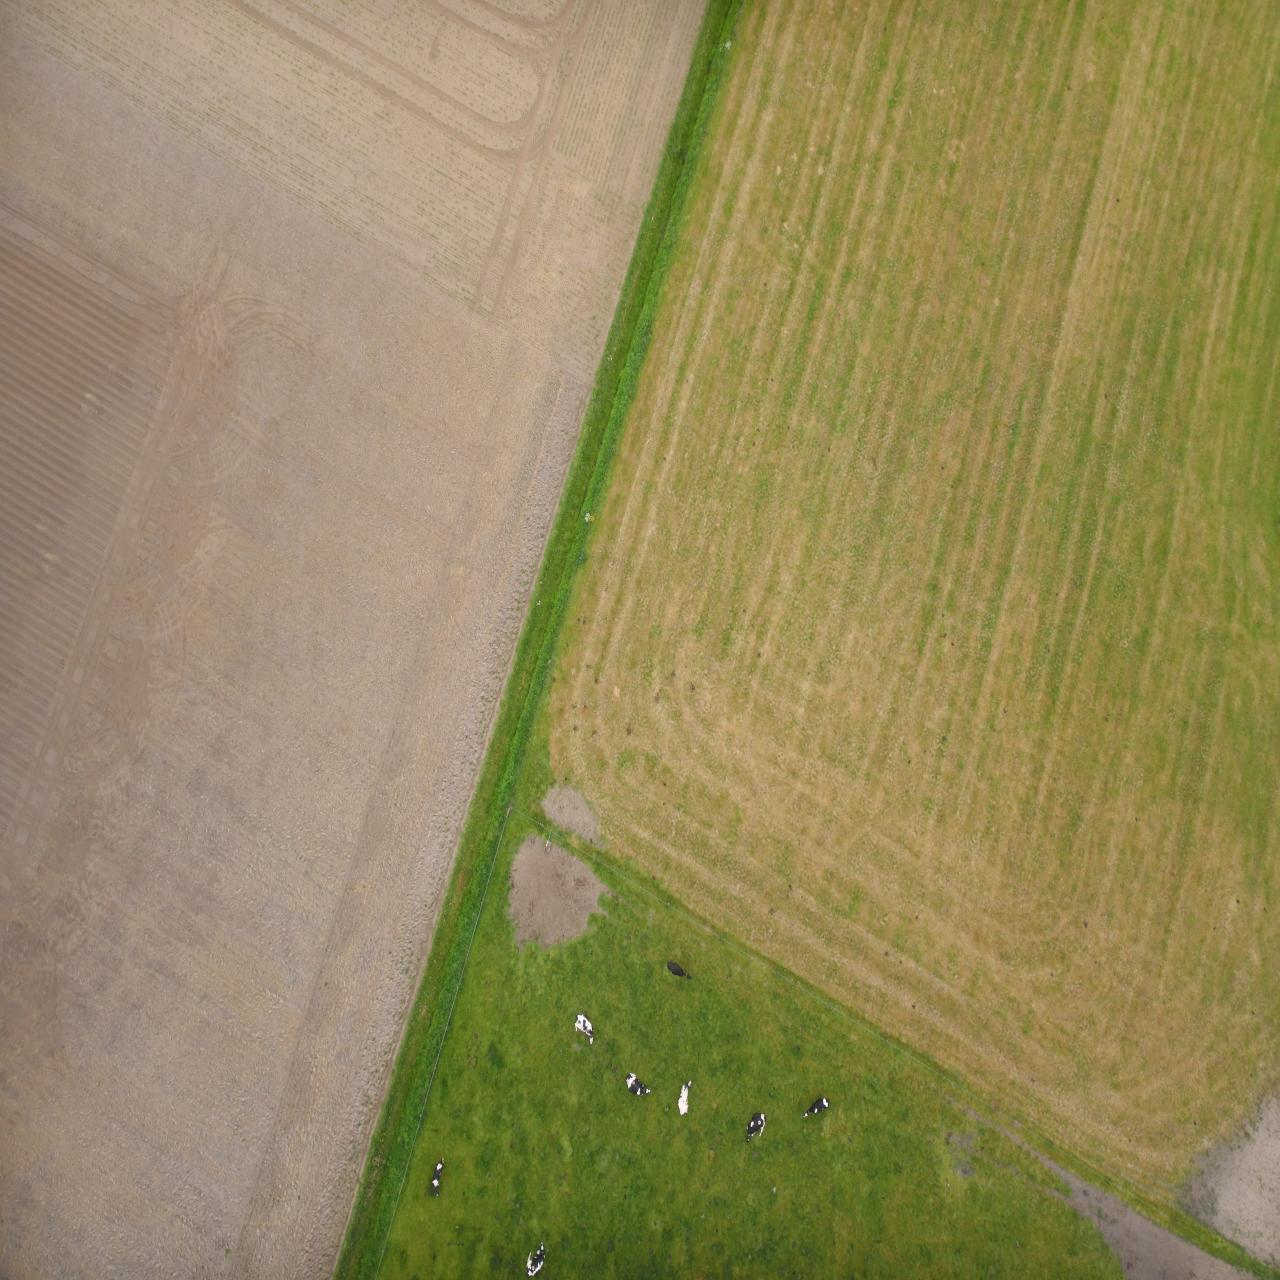cow: (734, 4, 753, 39), (629, 182, 654, 207), (513, 136, 533, 166), (686, 234, 704, 266), (587, 163, 602, 200), (450, 162, 477, 182), (836, 83, 849, 122), (588, 300, 613, 320)
